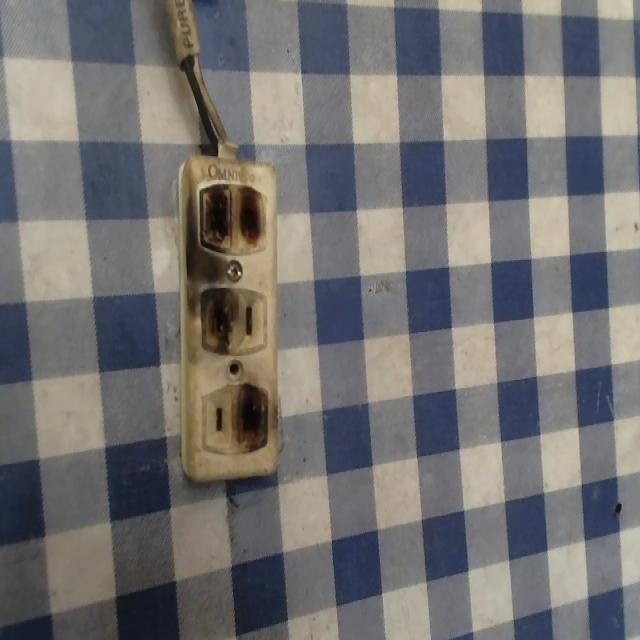-: (193, 181, 271, 259), (195, 276, 241, 360), (232, 375, 271, 456)
